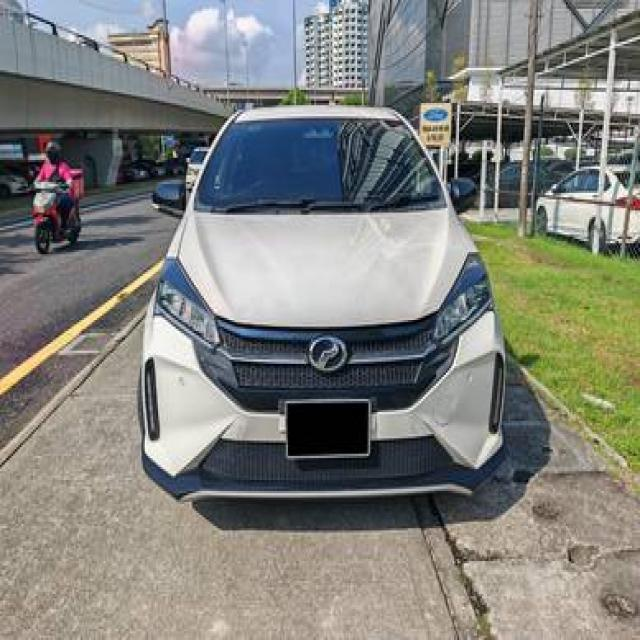PeroduaMyvi: (136, 98, 508, 504)
